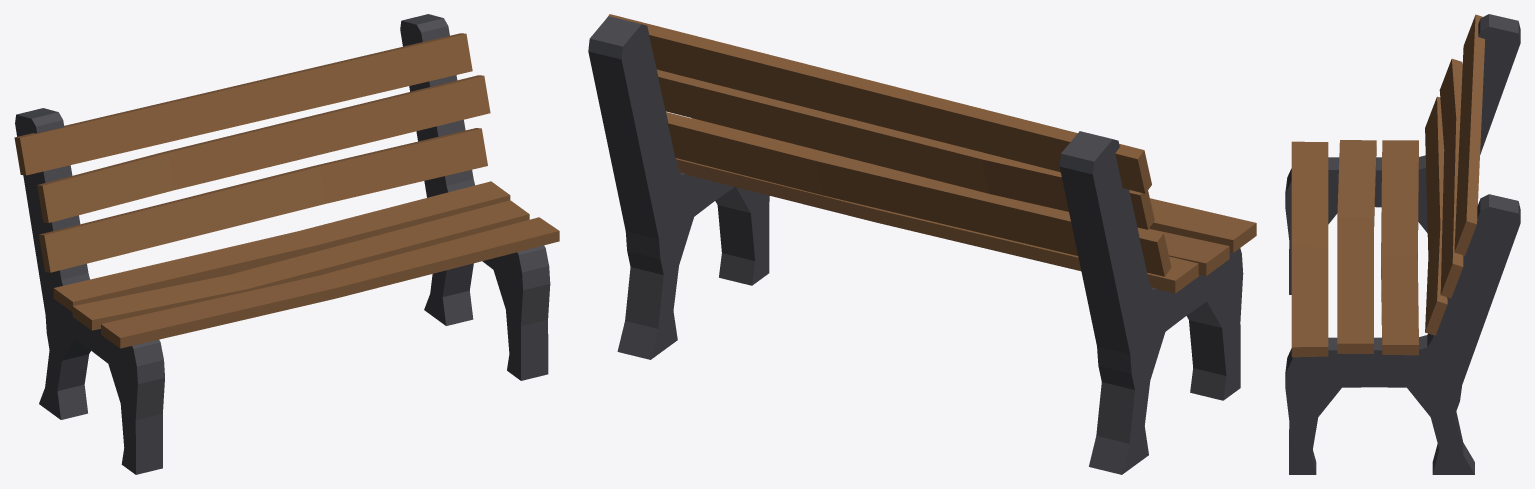
Rendered from bench.fbx.
The picture shows the model from 3 angles, left to right: view 1: azimuth 30°, elevation 25°; view 2: azimuth 150°, elevation 25°; view 3: azimuth 270°, elevation 25°; orthographic projection. The views are drawn at different scales.
Visible parts, largest first — view 1: Cube; view 2: Cube; view 3: Cube.
Part boxes in pixels (box(x1,y1,x2,y2)): Cube: box(14, 14, 559, 474); Cube: box(588, 14, 1256, 474); Cube: box(1285, 14, 1520, 474).
Bounding box in the file's own units: 949 × 561 × 447.
